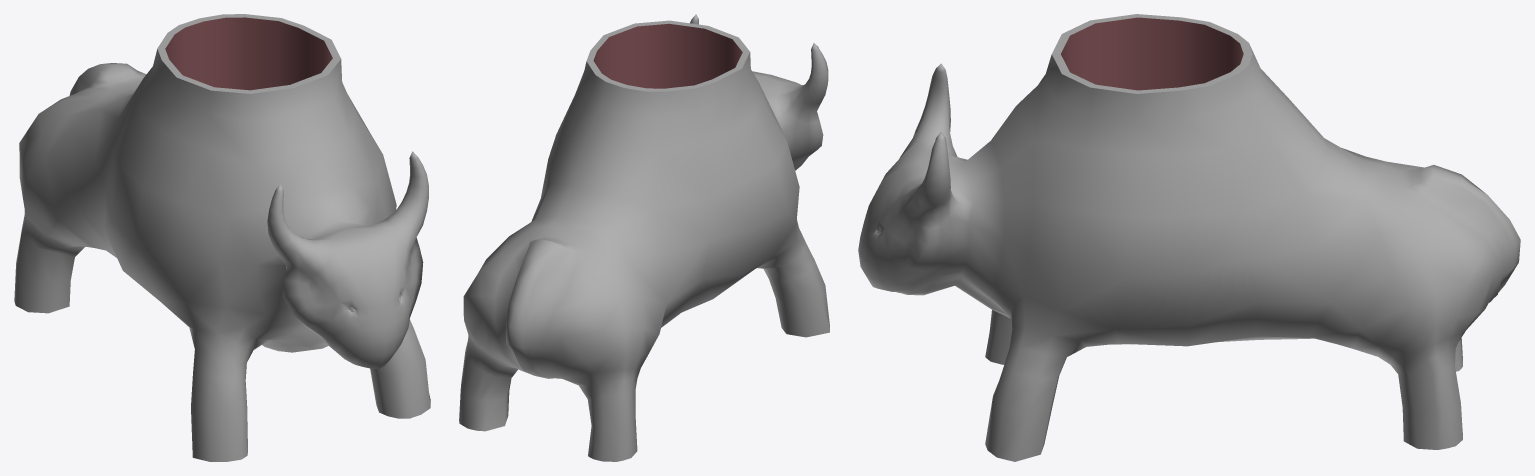
The model's file is buff_final_fornumv1.2.fbx.
3 views of the same model, side by side, from view 1: azimuth 30°, elevation 25°; view 2: azimuth 150°, elevation 25°; view 3: azimuth 270°, elevation 25° (orthographic). The views are drawn at different scales.
Parts seen in each view (by area): view 1: polySurface6; view 2: polySurface6; view 3: polySurface6.
Part boxes in pixels (x1=…): polySurface6: x1=14, y1=14, x2=430, y2=461; polySurface6: x1=459, y1=14, x2=829, y2=461; polySurface6: x1=858, y1=14, x2=1520, y2=461.
Size of the model in its own units: 4.8 by 6.07 by 10.48.
